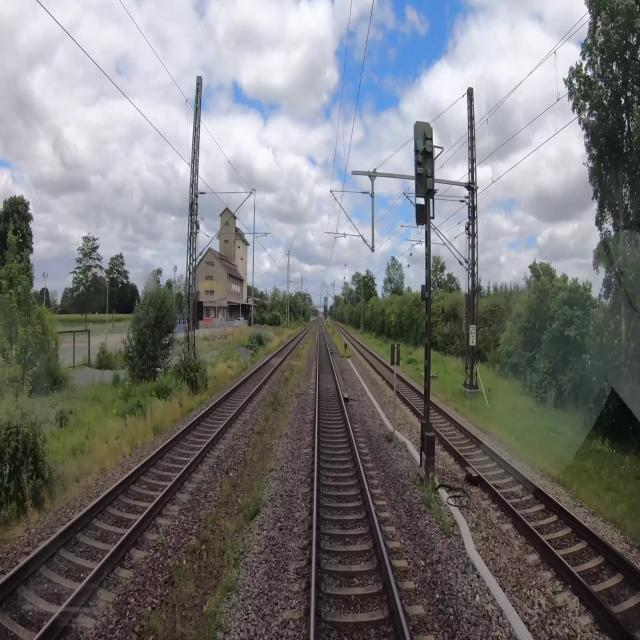Plant: (138, 330, 314, 639)
